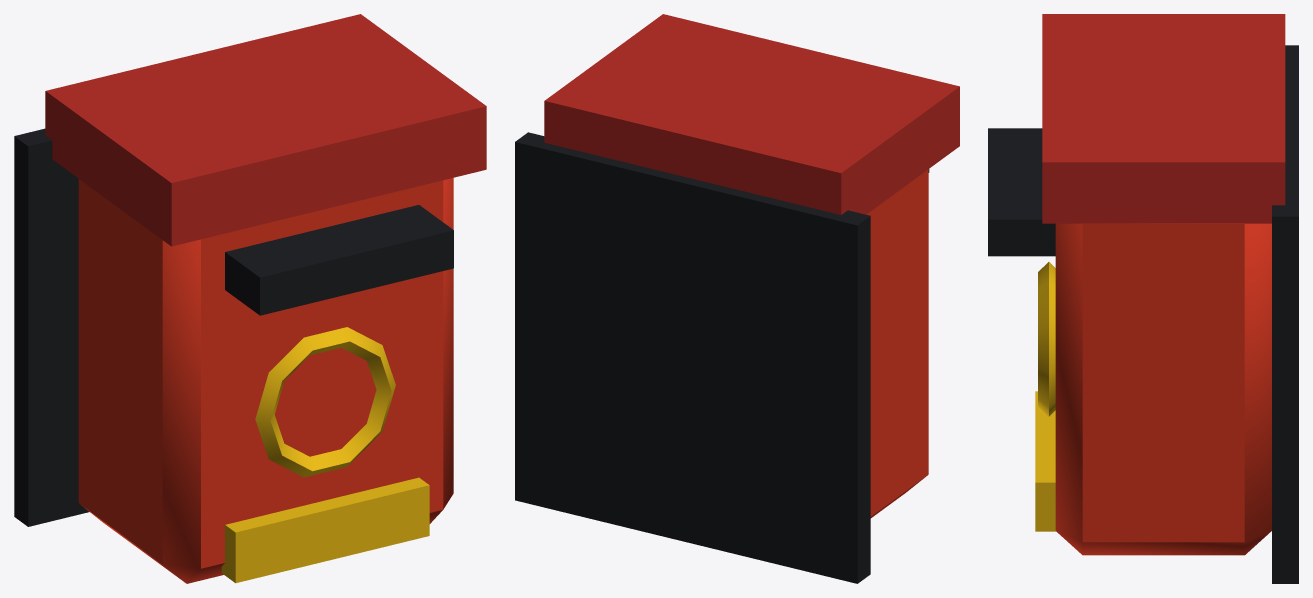
The model's file is medsupply_sharps_container.glb.
3 renders of one model, left to right at view 1: azimuth 30°, elevation 25°; view 2: azimuth 150°, elevation 25°; view 3: azimuth 270°, elevation 25°, orthographic. The views are drawn at different scales.
Parts seen in each view (by area): view 1: medsupply_sharps_container; view 2: medsupply_sharps_container; view 3: medsupply_sharps_container.
Boxes of the visible parts, x1,y1,x2,y2 form: medsupply_sharps_container: [14, 14, 486, 583]; medsupply_sharps_container: [515, 14, 959, 583]; medsupply_sharps_container: [988, 14, 1298, 583].
Size of the model in its own units: 0.3 by 0.335 by 0.23.
